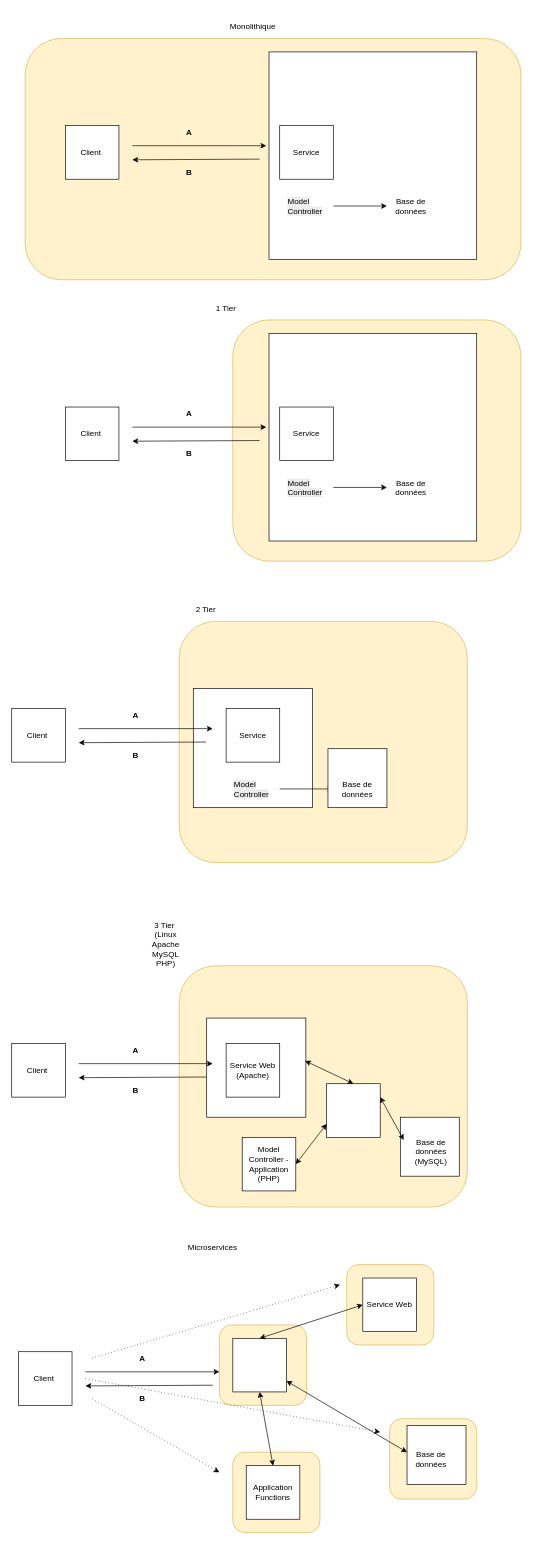
Some shapes in this 533 by 1544 pixel diagram are drawn without their labels. The shapes that lost their labels are listed below. From the top down, each one's centre as x and y in pixels, then its label:
the point at 353,1110: Middleware
the point at 259,1365: API (https)
